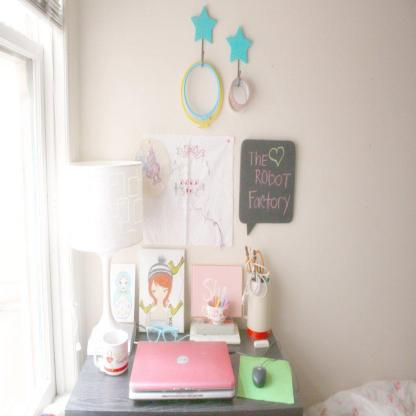board: (128, 340, 235, 400)
